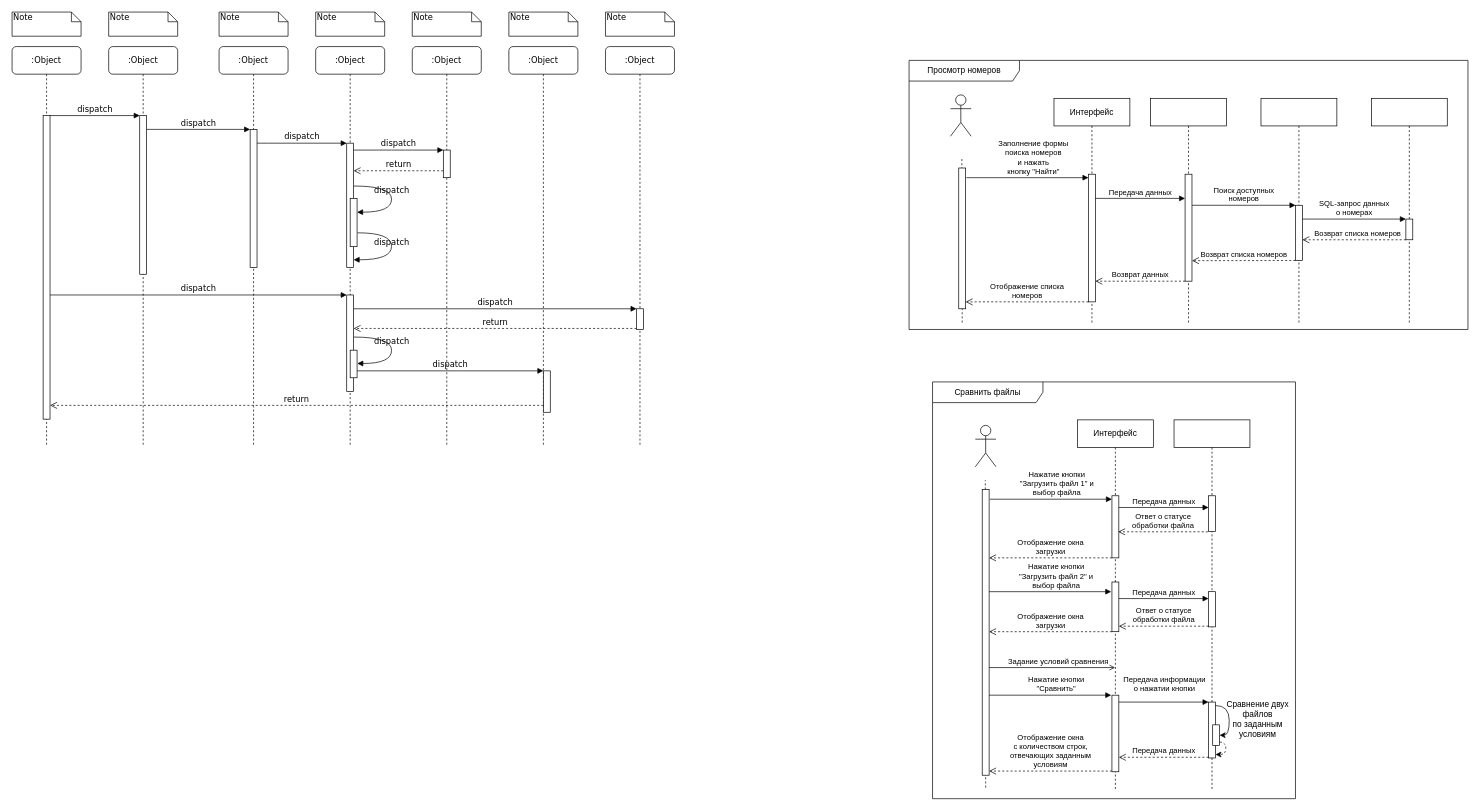
Image size: 1480x811. Some labels were removed from this diagram. Each missing label, with the box of its shape:
Авторизованный пользователь: (950, 94, 971, 136)
База данных: (1371, 98, 1447, 323)
Контроллер: (1150, 98, 1226, 323)
Менеджер логики: (1173, 419, 1250, 789)
Модель: (1260, 98, 1337, 323)
Пользователь: (975, 425, 996, 467)
